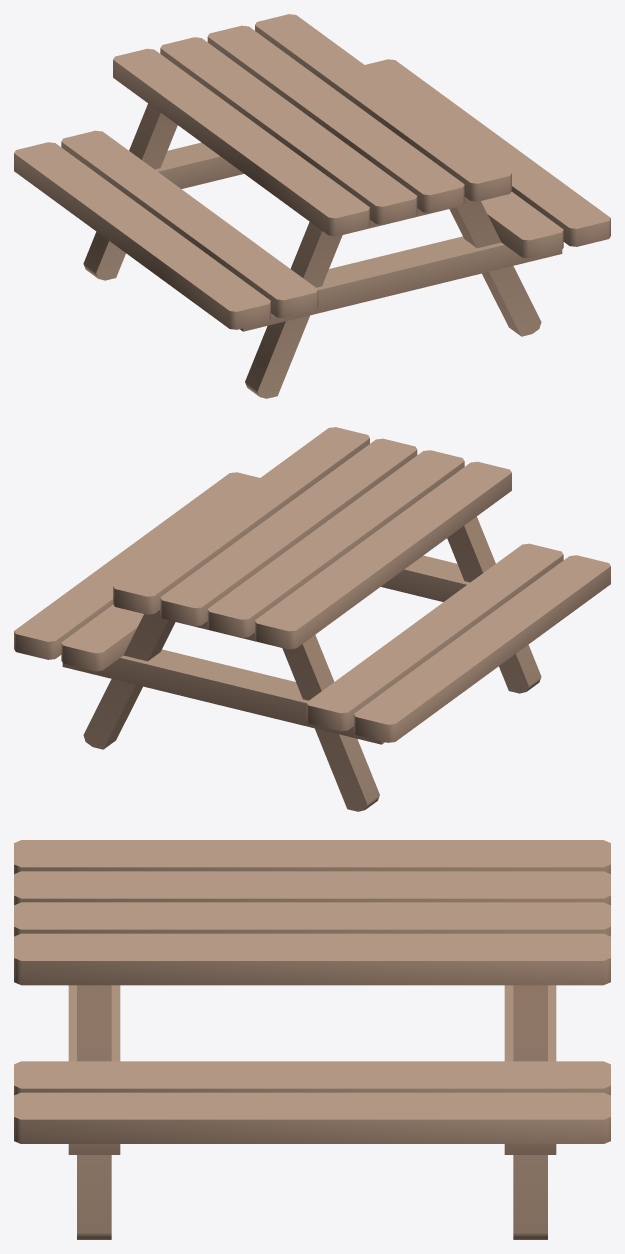
File: table-picnic.glb
3 views of the same model, one above another, from view 1: azimuth 30°, elevation 25°; view 2: azimuth 150°, elevation 25°; view 3: azimuth 270°, elevation 25° (orthographic). The views are drawn at different scales.
Visible parts, largest first — view 1: table-picnic; view 2: table-picnic; view 3: table-picnic.
Boxes of the visible parts, left/top/right/bottom form: table-picnic: left=14, top=14, right=610, bottom=398; table-picnic: left=14, top=427, right=610, bottom=811; table-picnic: left=14, top=840, right=610, bottom=1239.
Bounding box in the file's own units: 1.14 × 0.5325 × 1.14.
